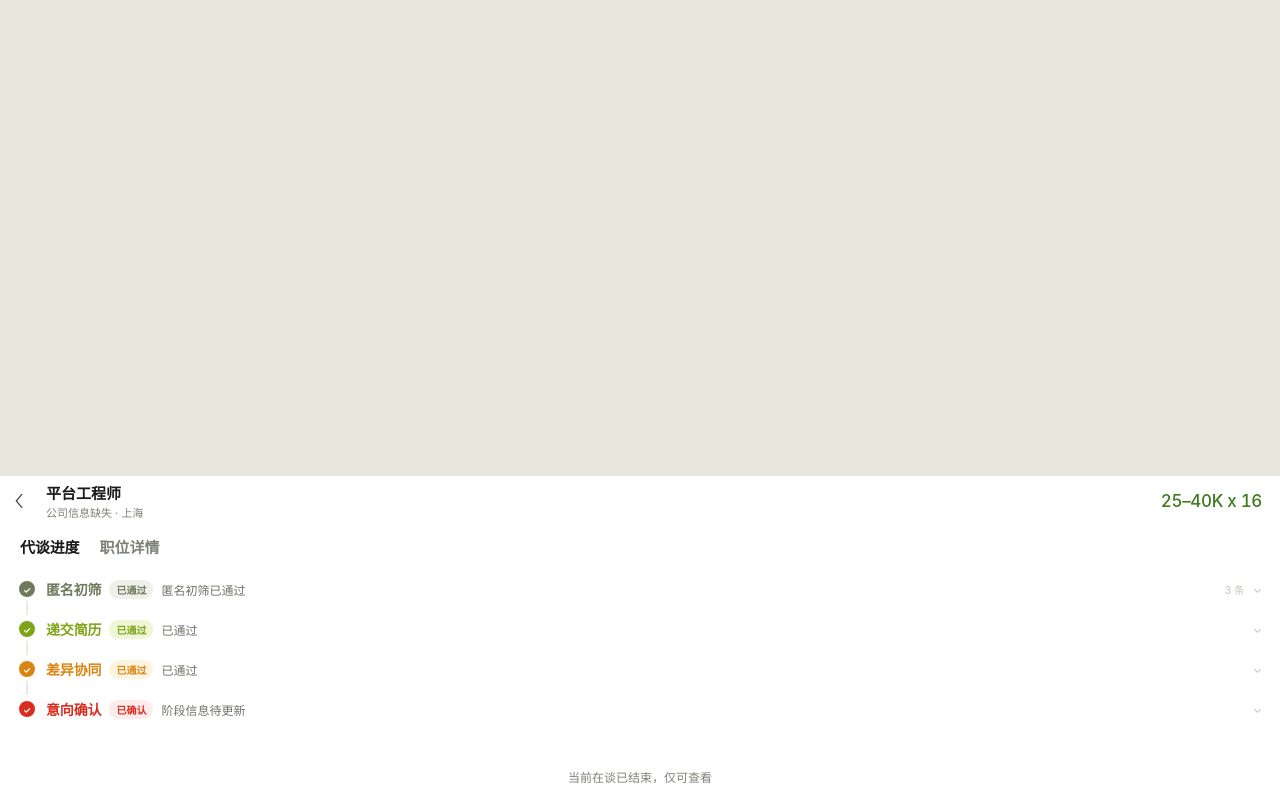
Test: MatchCase详情 · P7 移交两步接线 › pending（handoff_pending）：开始私聊在场但禁用，3 秒节拍继续权威重读，无内部错误词
(page scrolled)
Click the button "意向确认 已确认 阶段信息待更新 ⌄".
click(74, 710)  # box [46, 697, 1262, 721]
Wait 6000 ms
(page scrolled)
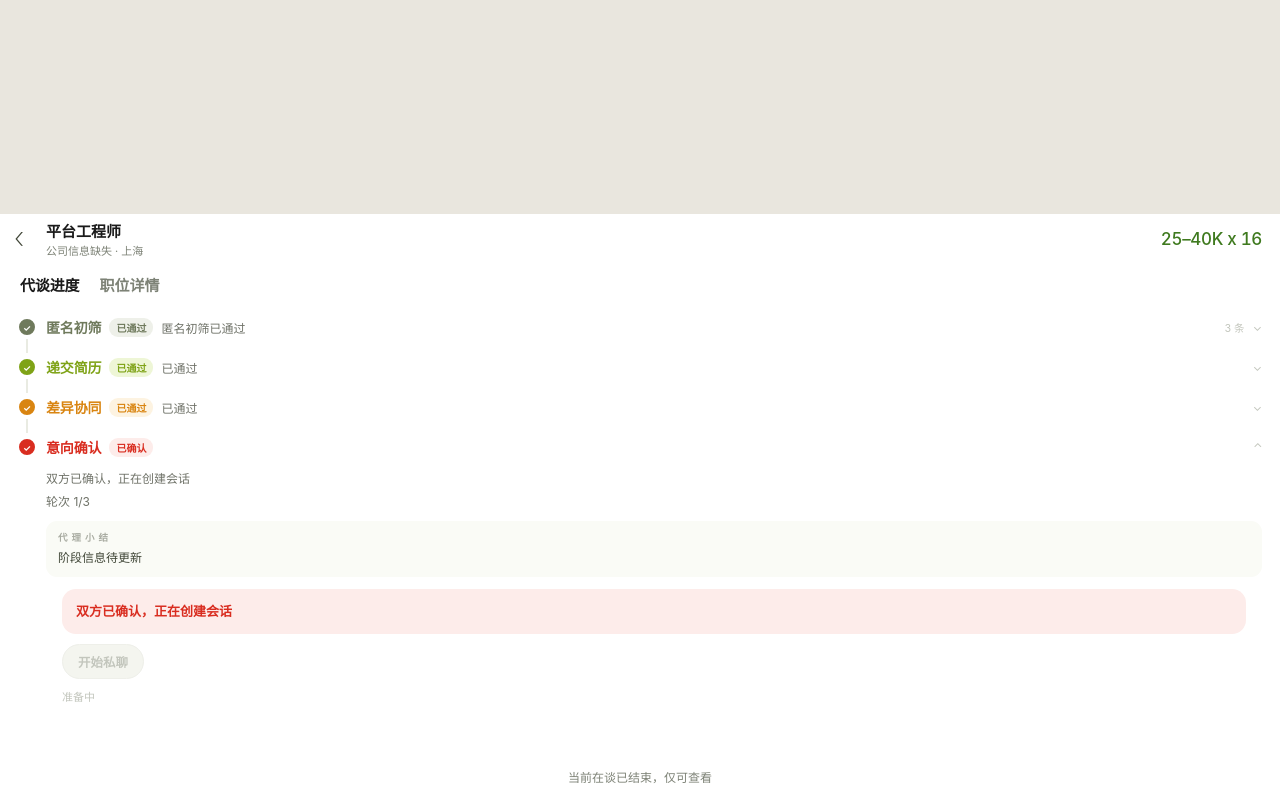
Check: the 1st text "双方已确认，正在创建会话" is shown, box [46, 471, 190, 486]
Check: the button "开始私聊" is disabled, box [62, 644, 144, 679]
